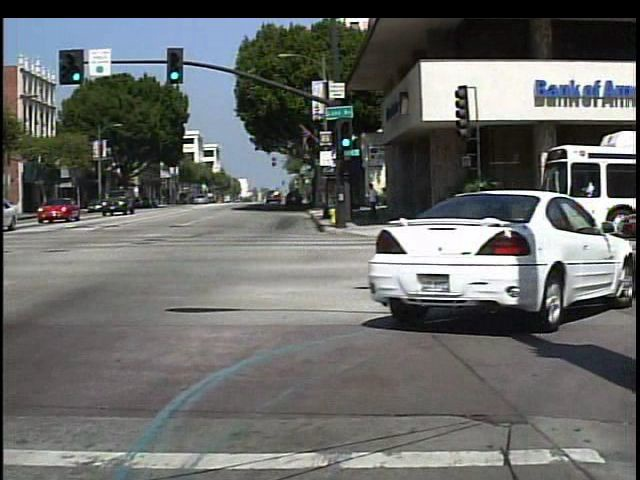person: (364, 182, 382, 216)
